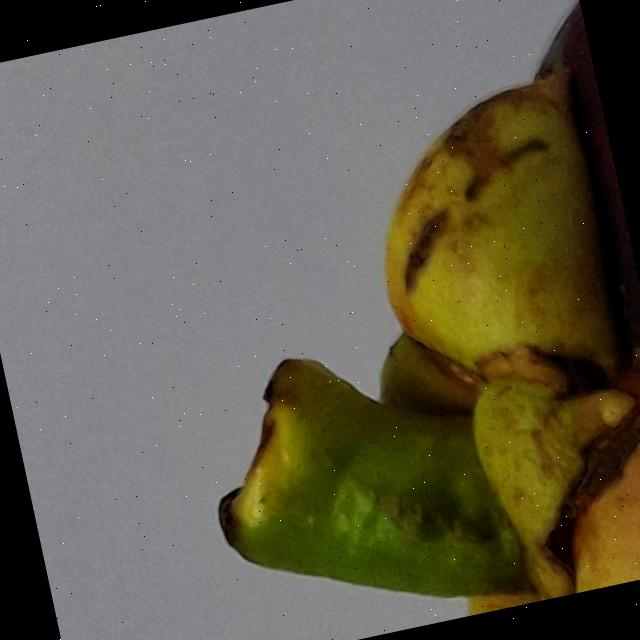mangosteen: (77, 0, 640, 640)
